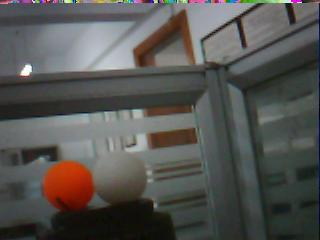oball: (43, 163, 92, 209)
